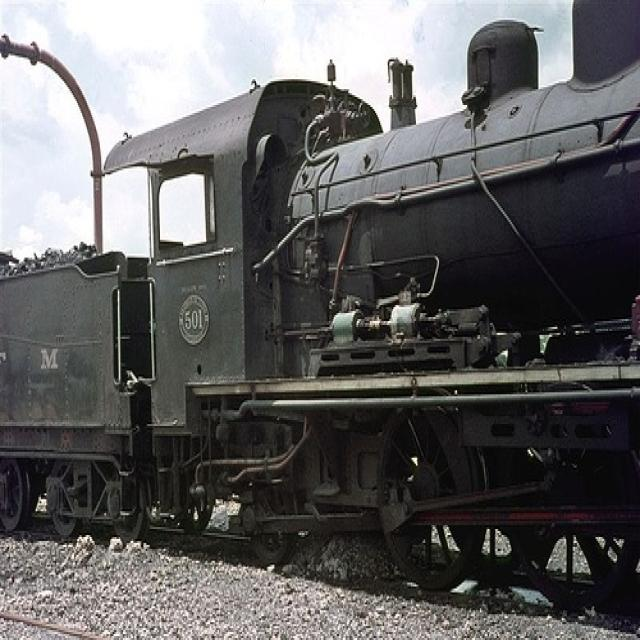train: (1, 2, 639, 592)
